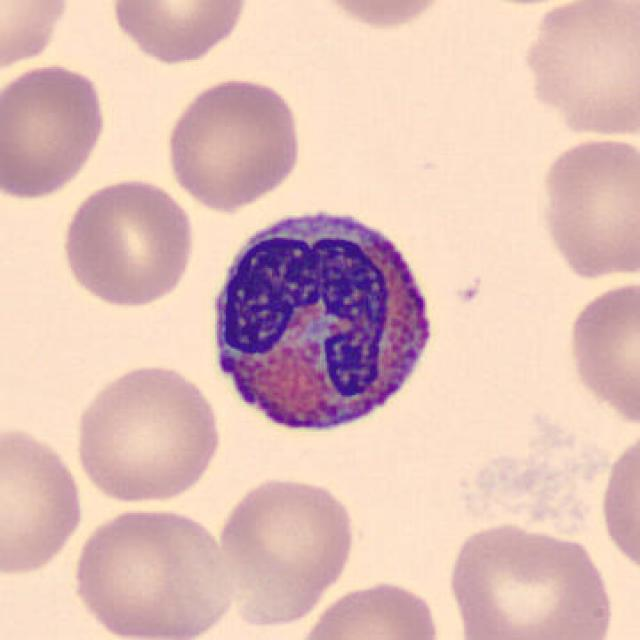Eosinophil: (199, 194, 448, 451)
RBC: (68, 502, 240, 640), (69, 360, 224, 508), (441, 520, 620, 640), (213, 471, 359, 615), (160, 72, 306, 212), (57, 174, 199, 310), (518, 0, 638, 141), (534, 130, 638, 286), (0, 60, 110, 203), (0, 420, 87, 578), (562, 275, 638, 434), (292, 575, 446, 640), (105, 0, 252, 67), (595, 423, 640, 581), (0, 0, 75, 76), (304, 0, 455, 33)
